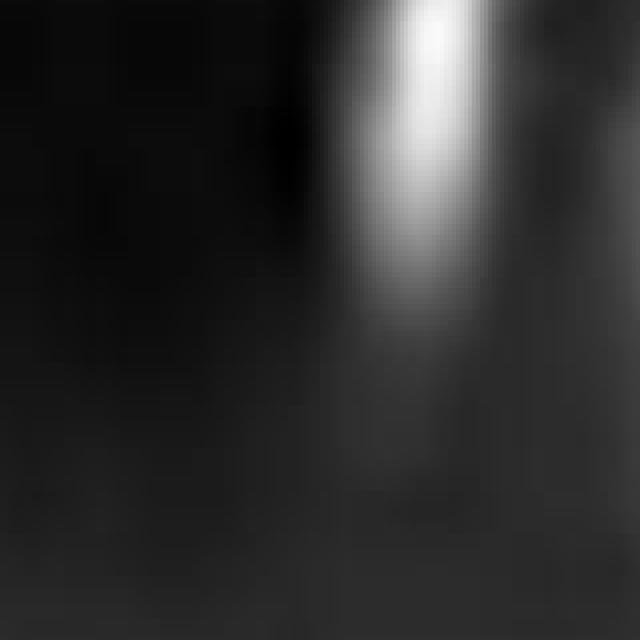person: (313, 1, 533, 342)
